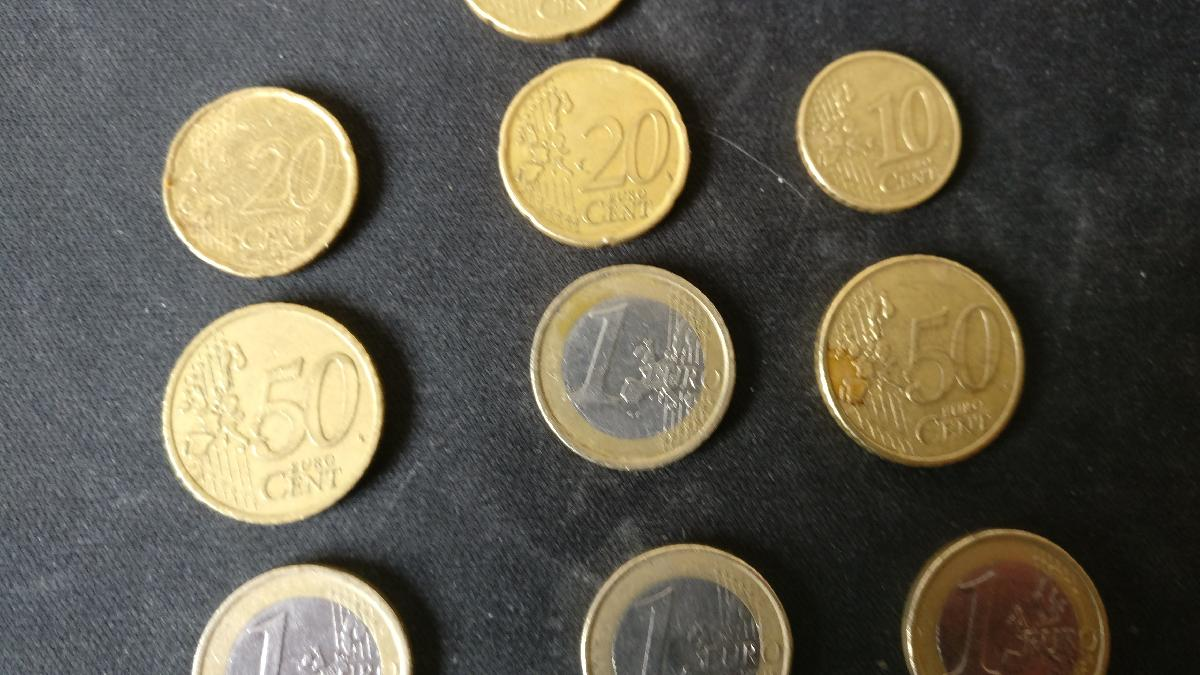Fifty Cent: (158, 303, 387, 526), (809, 252, 1029, 467)
One Euro: (530, 261, 738, 472), (898, 522, 1110, 675), (578, 539, 788, 675), (187, 560, 414, 675)
Ten Cent: (791, 53, 965, 211)
Twenty Cent: (164, 84, 361, 278), (496, 56, 694, 248)
